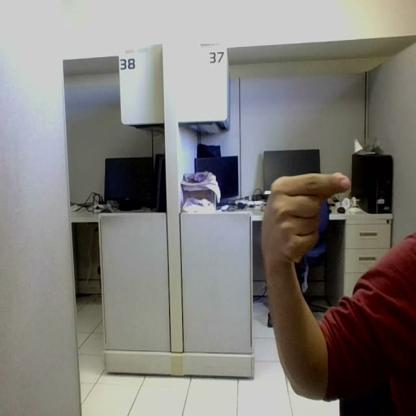G: (266, 173, 349, 262)
